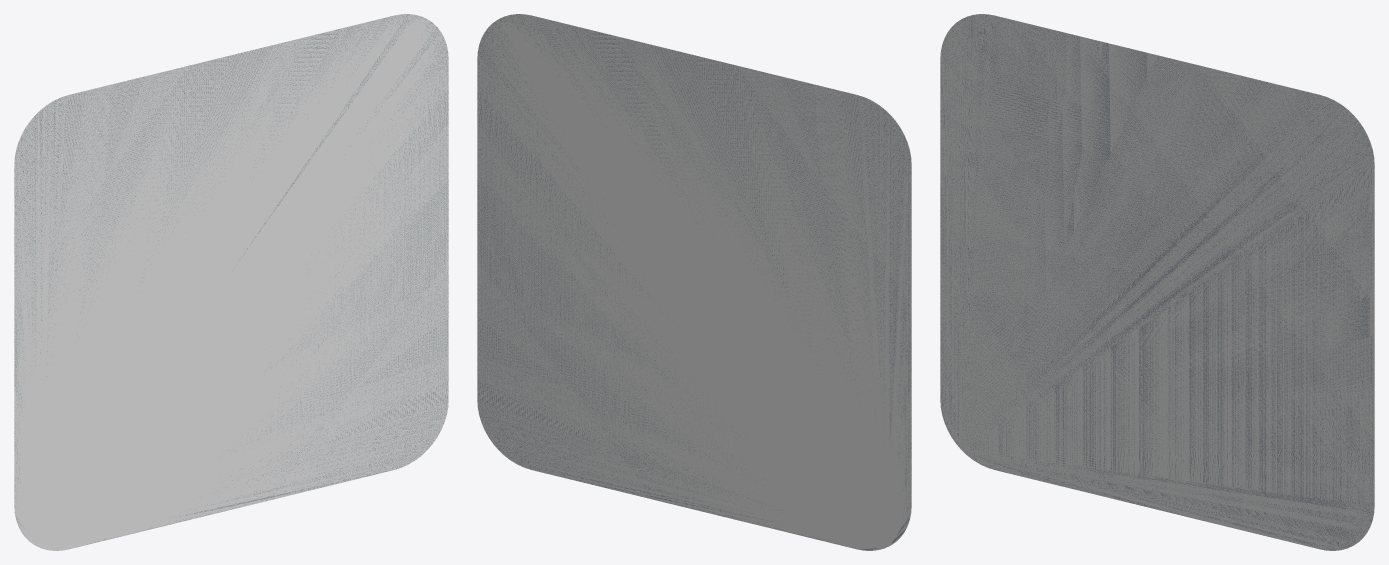
Rendered from Soft_edged.obj.
The picture shows the model from 3 angles, left to right: view 1: azimuth 30°, elevation 25°; view 2: azimuth 150°, elevation 25°; view 3: azimuth 330°, elevation 25°; orthographic projection.
Visible parts, largest first — view 1: Mesh1 Model; view 2: Mesh1 Model; view 3: Mesh1 Model.
Boxes of the visible parts, x1,y1,x2,y2 form: Mesh1 Model: [14, 14, 448, 550]; Mesh1 Model: [477, 14, 911, 550]; Mesh1 Model: [940, 14, 1374, 550].
Bounding box in the file's own units: 4.25 × 4.25 × 0.
